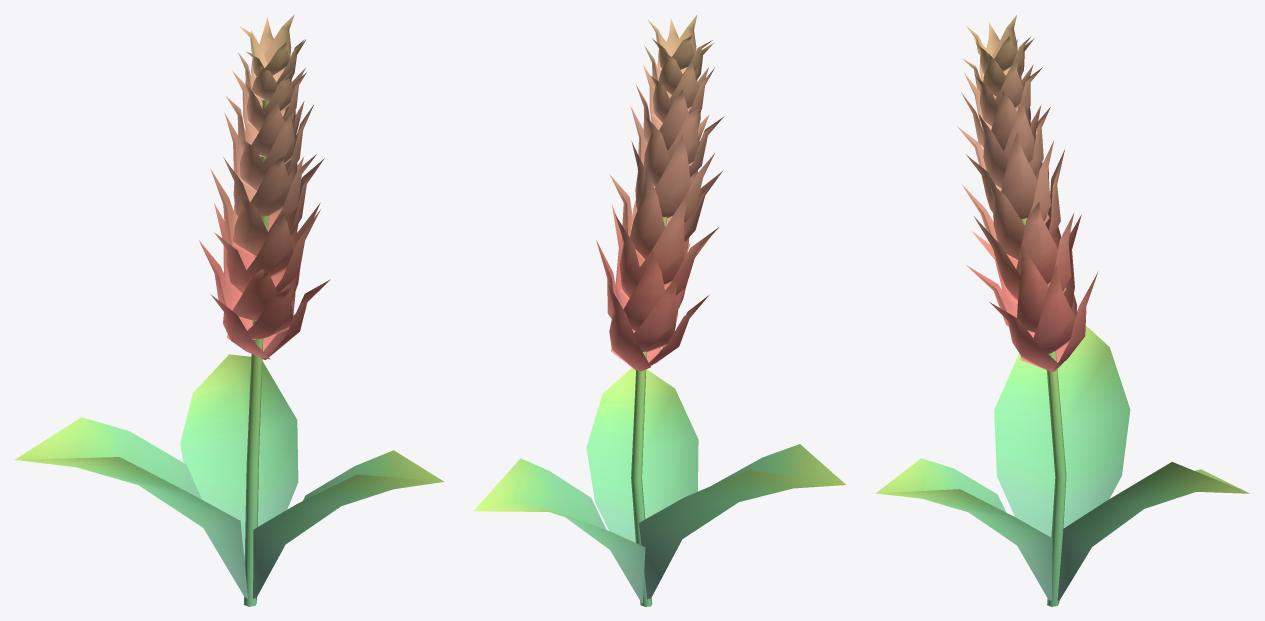
Rendered from Flower.031_Base_Material_0.fbx.
3 renders of one model, left to right at view 1: azimuth 30°, elevation 25°; view 2: azimuth 150°, elevation 25°; view 3: azimuth 270°, elevation 25°, orthographic. The views are drawn at different scales.
Visible parts, largest first — view 1: Flower.031_Base_Material_0_export; view 2: Flower.031_Base_Material_0_export; view 3: Flower.031_Base_Material_0_export.
Part boxes in pixels (bbox=[...]): Flower.031_Base_Material_0_export: bbox=[14, 14, 444, 606]; Flower.031_Base_Material_0_export: bbox=[474, 14, 845, 606]; Flower.031_Base_Material_0_export: bbox=[875, 14, 1249, 606].
Bounding box in the file's own units: 2.11 × 3.72 × 2.18.
